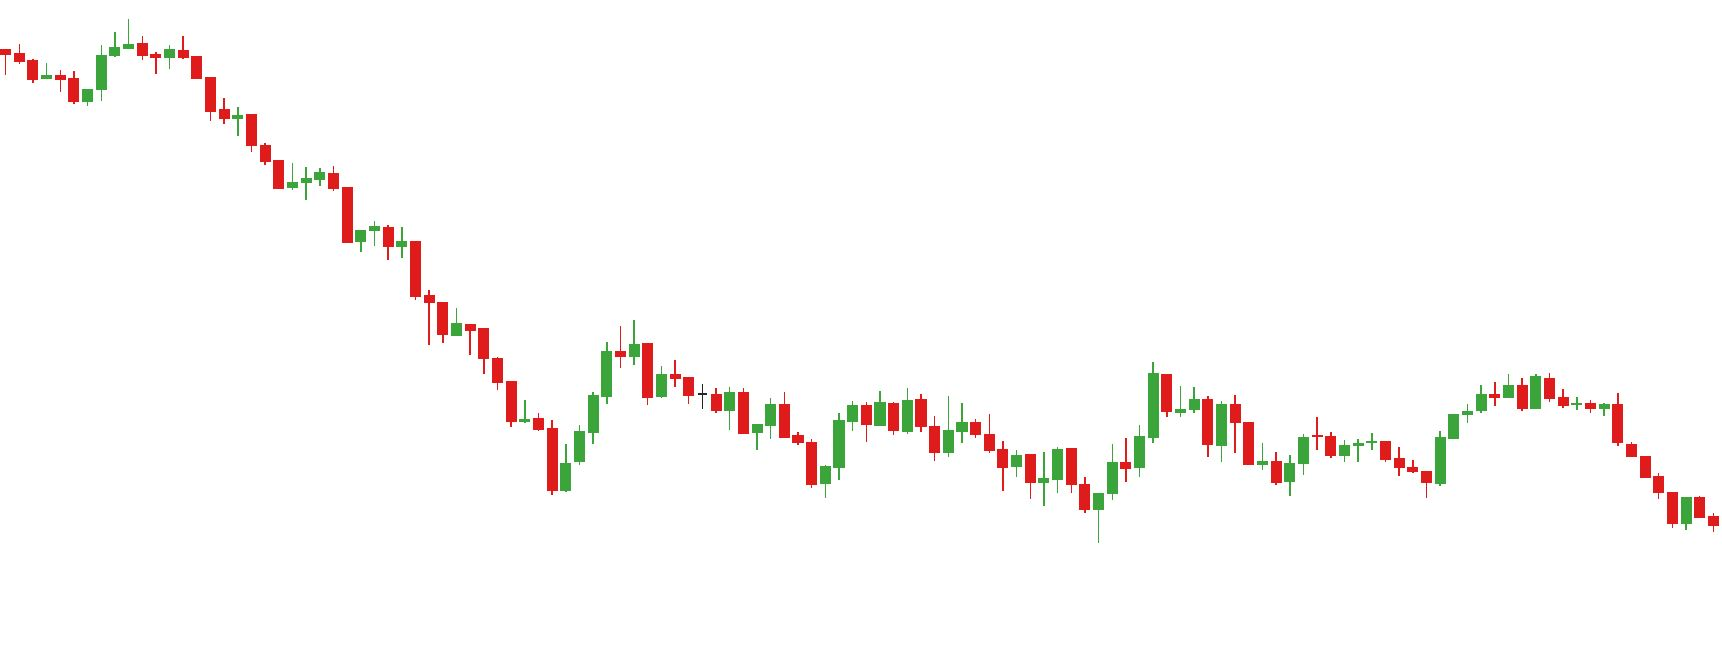sell: (901, 359, 1176, 463)
